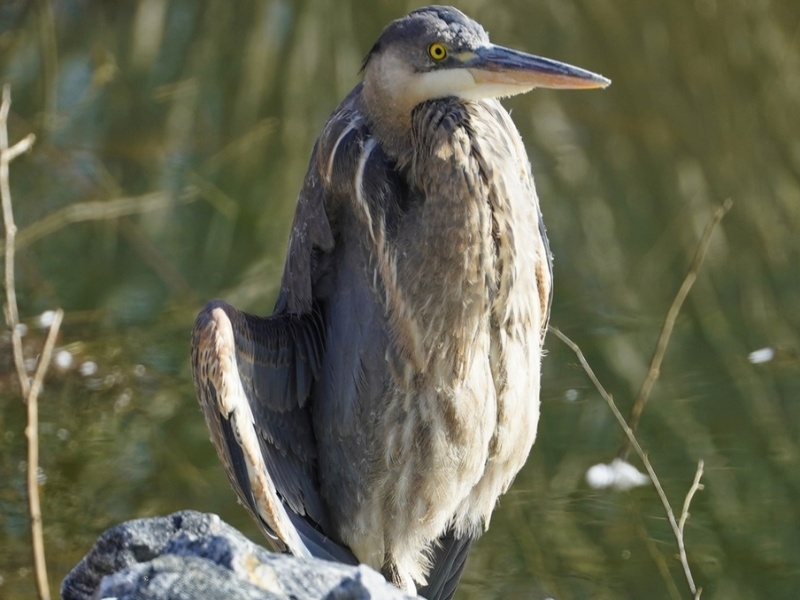heron: (188, 7, 614, 575)
